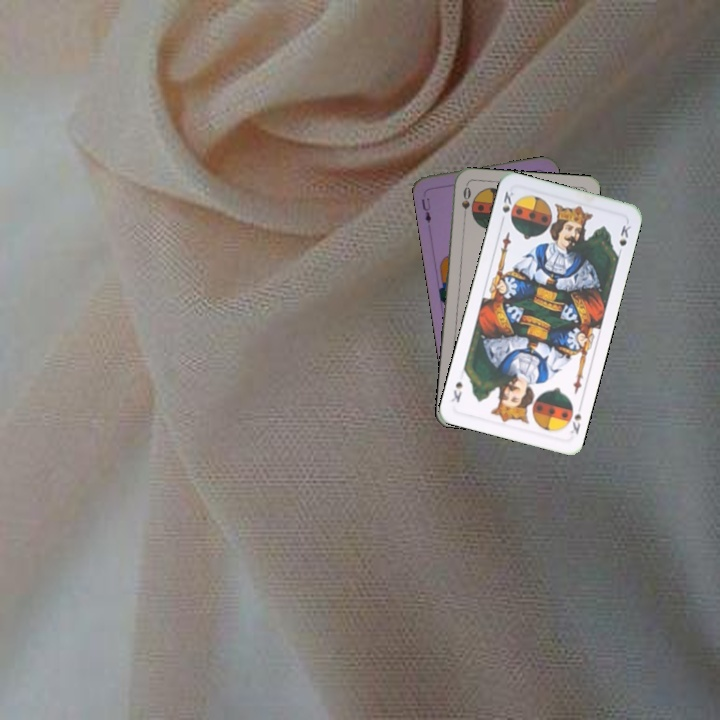EU: (417, 194, 434, 226)
SK: (497, 186, 516, 226), (566, 409, 584, 437)
SO: (457, 182, 473, 223)
